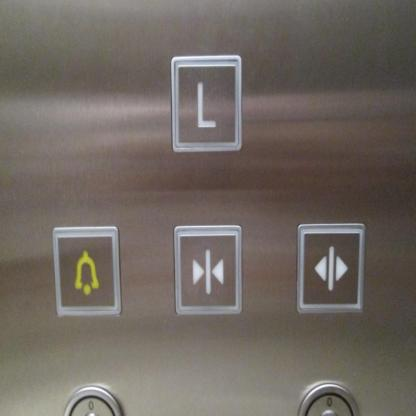L: (168, 52, 244, 156)
alarm: (49, 223, 124, 319)
close: (171, 222, 244, 318)
open: (294, 219, 367, 316)
